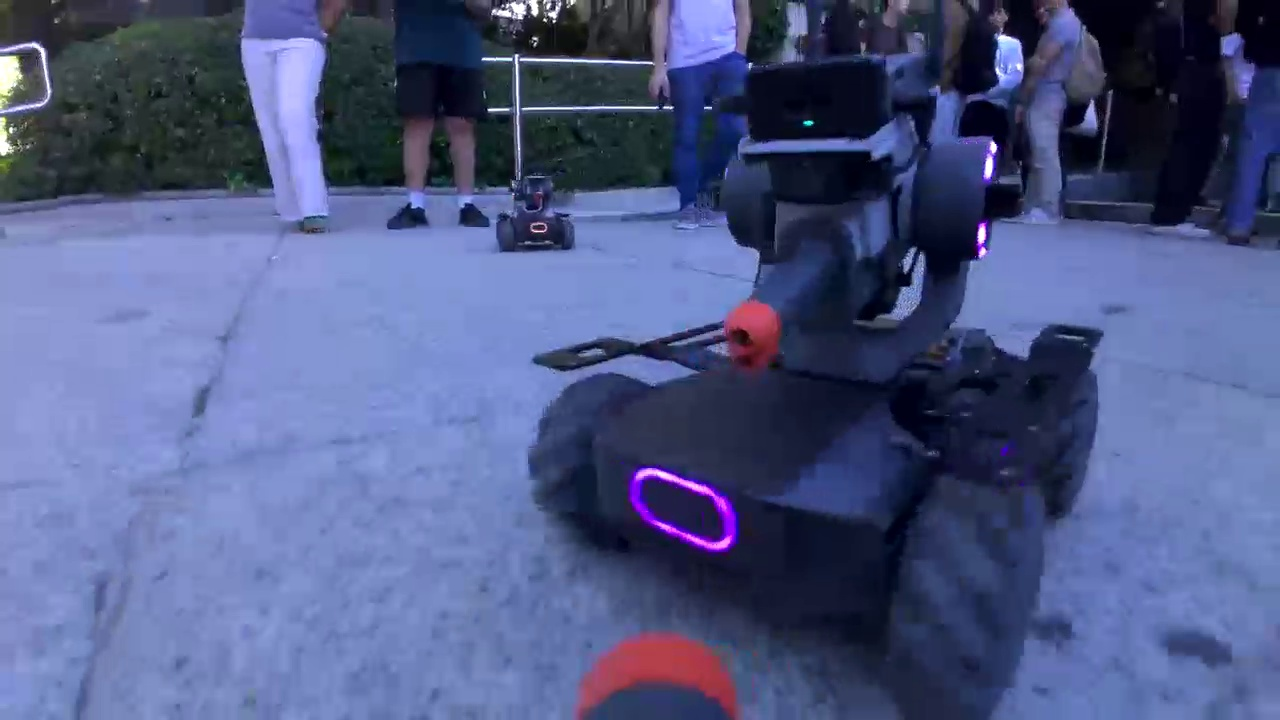robot: (527, 49, 1106, 719), (495, 166, 577, 251)
